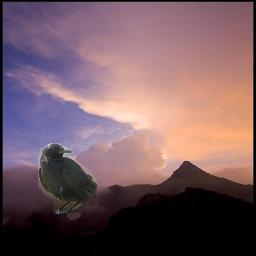Crow: (38, 143, 97, 214)
